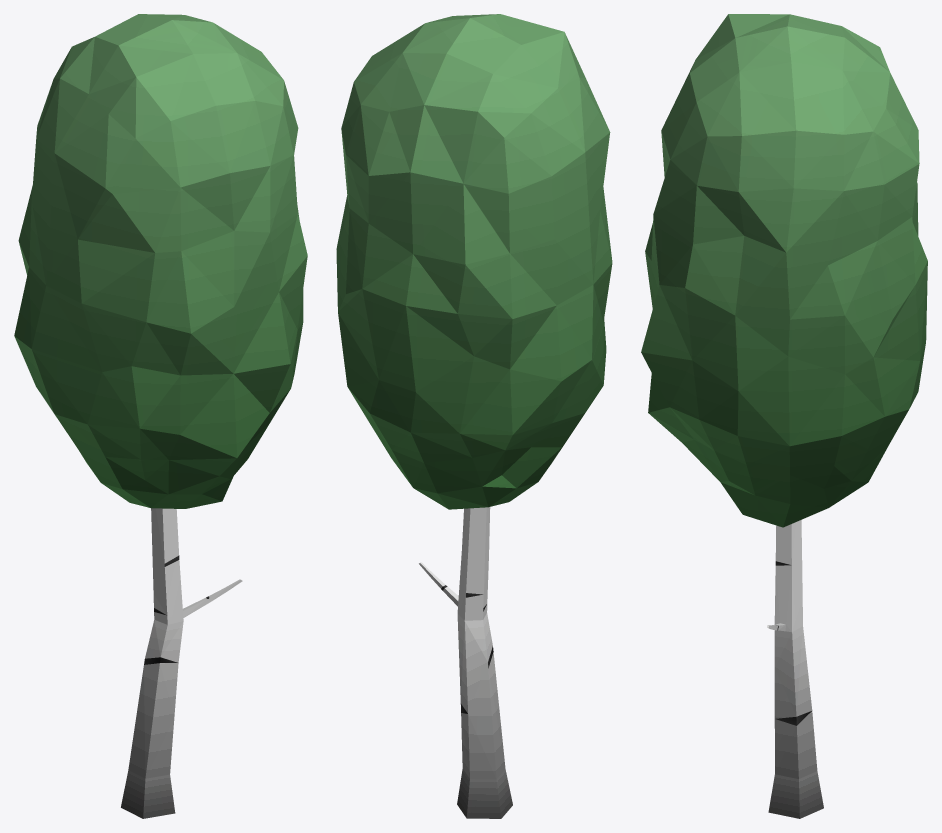
The model's file is betula_jovem.glb.
3 renders of one model, left to right at view 1: azimuth 30°, elevation 25°; view 2: azimuth 150°, elevation 25°; view 3: azimuth 270°, elevation 25°, orthographic.
Visible parts, largest first — view 1: BirchTreeYoungCSimple; view 2: BirchTreeYoungCSimple; view 3: BirchTreeYoungCSimple.
Boxes of the visible parts, x1,y1,x2,y2 form: BirchTreeYoungCSimple: (14, 14, 307, 818); BirchTreeYoungCSimple: (336, 14, 612, 818); BirchTreeYoungCSimple: (641, 14, 927, 818).
Bounding box in the file's own units: 0.9447 × 2.84 × 0.935.
Materials: 1 (1 with a texture image).
